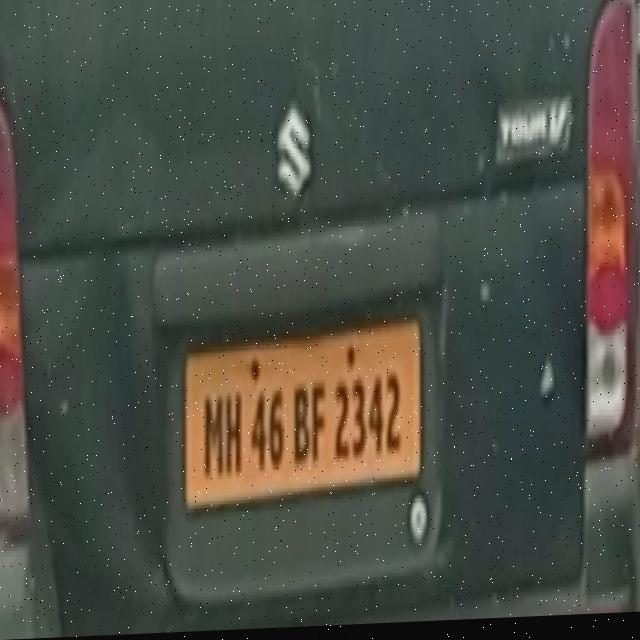plate: (181, 321, 425, 512)
